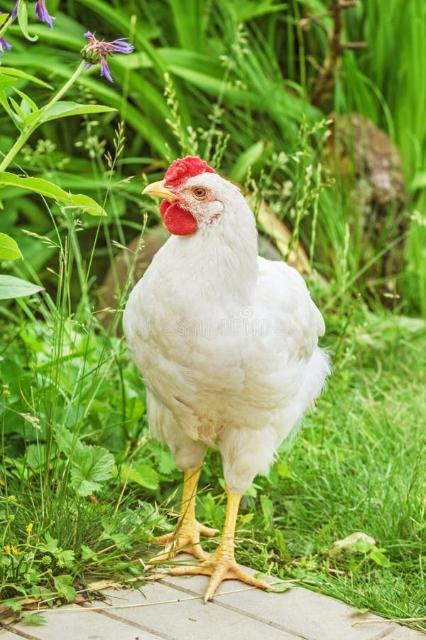Chicken: (119, 154, 332, 600)
